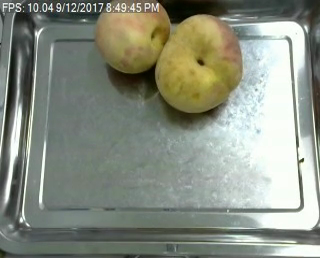Peach: (155, 14, 244, 113)
